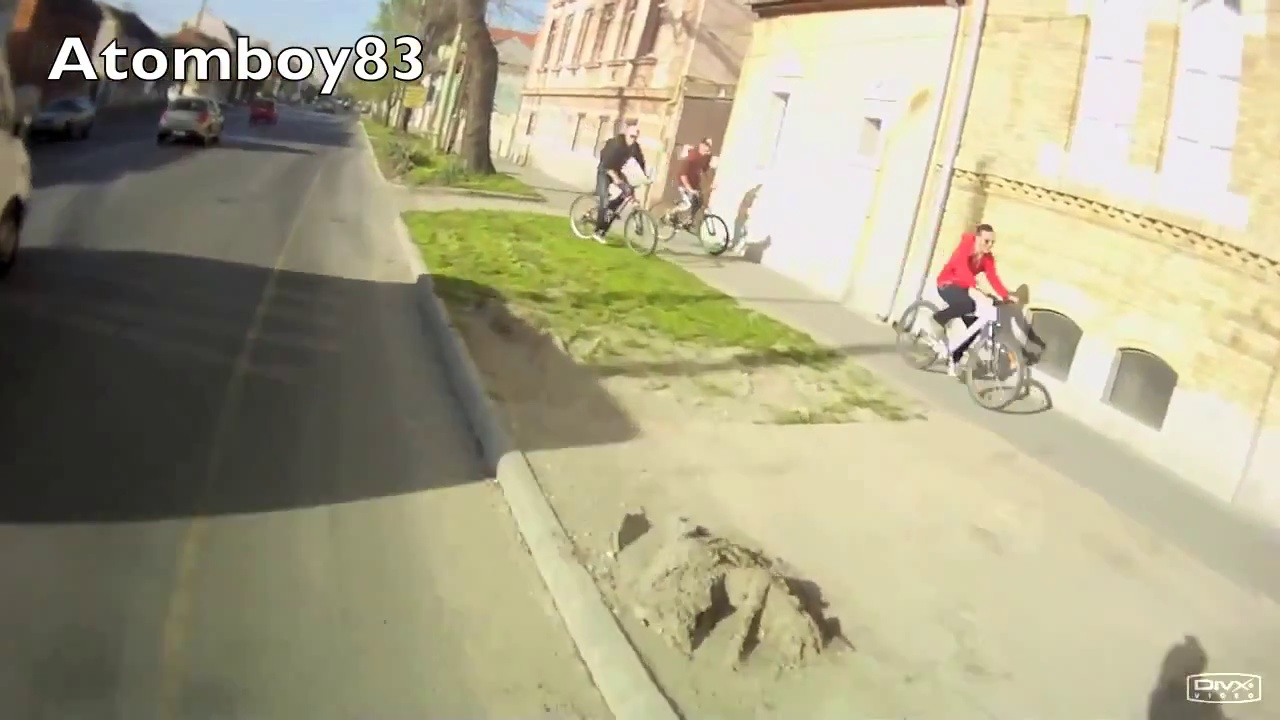cyclist_side: (895, 204, 1038, 413), (571, 120, 659, 257), (655, 136, 735, 252)
